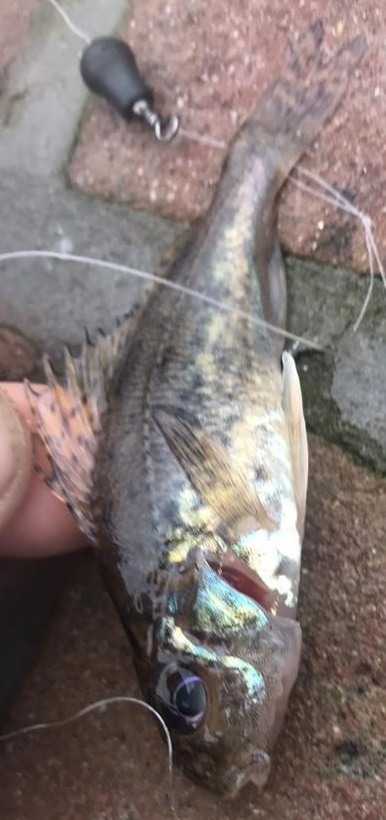Gymnocephalus cernuus: (20, 20, 366, 800)
